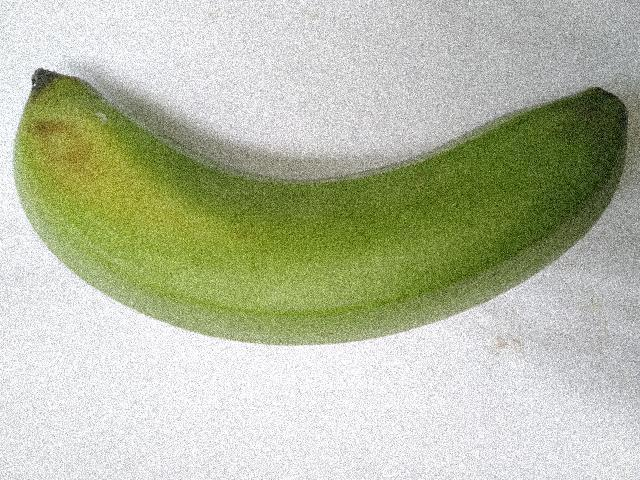freshunripe: (2, 58, 639, 370)
